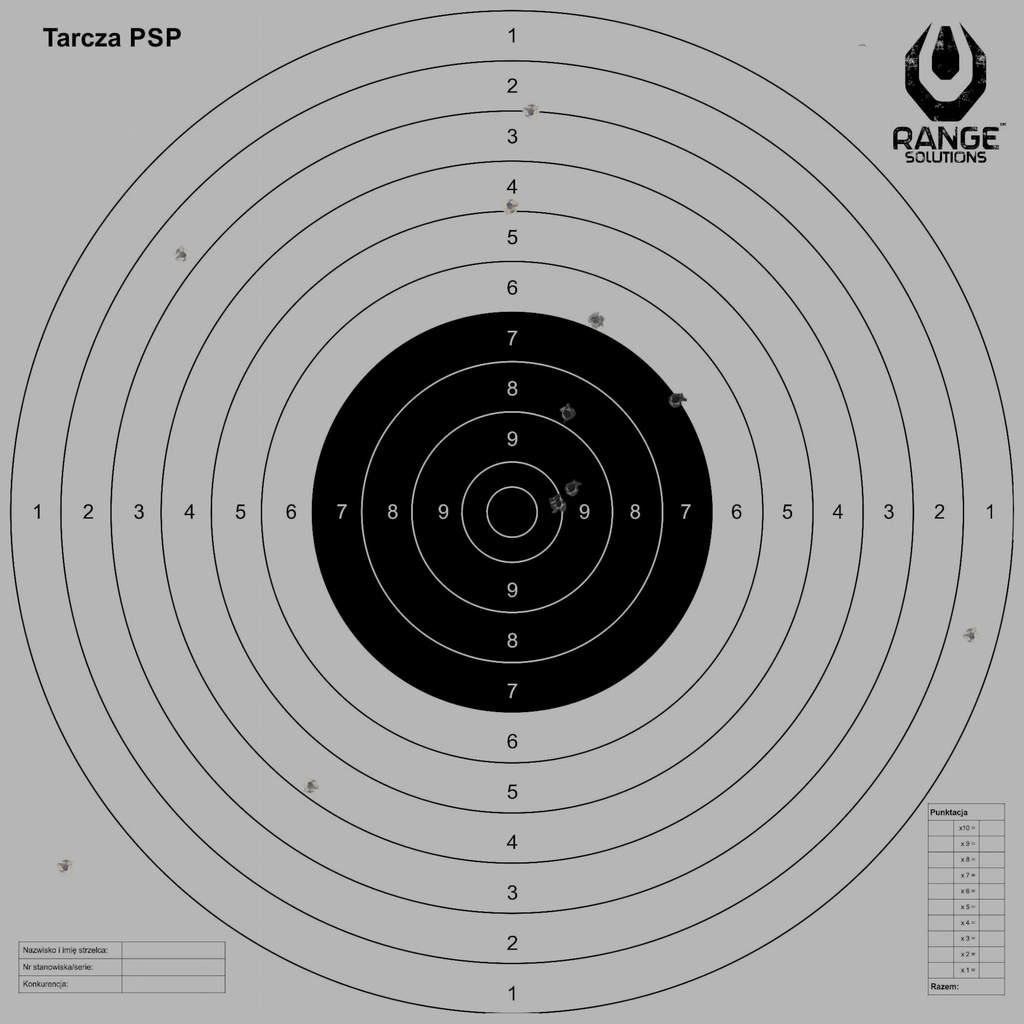0 punktow: (56, 858, 75, 876)
1 punkt: (962, 627, 981, 645)
10 punktow: (549, 494, 567, 513)
2 punkty: (174, 246, 192, 264)
3 punkty: (522, 103, 540, 121)
4 punkty: (301, 776, 320, 795)
5 punktow: (501, 197, 519, 215)
6 punktow: (586, 311, 605, 329)
7 punktow: (667, 391, 685, 409)
8 punktow: (558, 404, 576, 423)
9 punktow: (563, 479, 581, 497)
